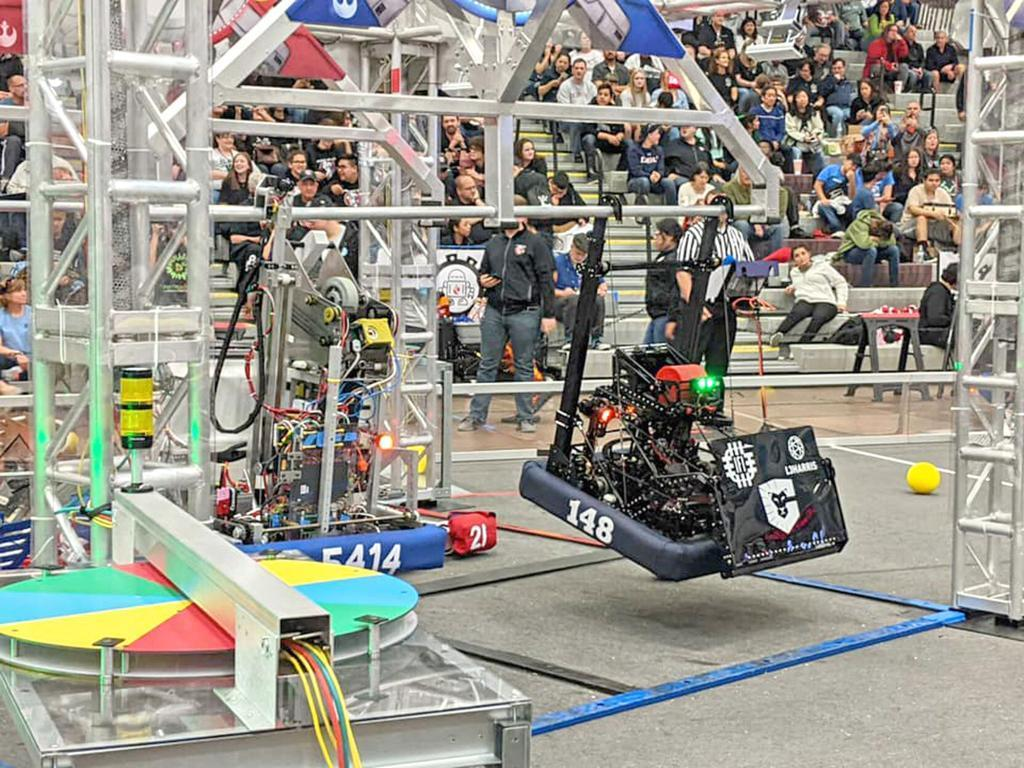robot: (518, 189, 852, 589), (200, 178, 449, 579), (213, 383, 508, 559)
